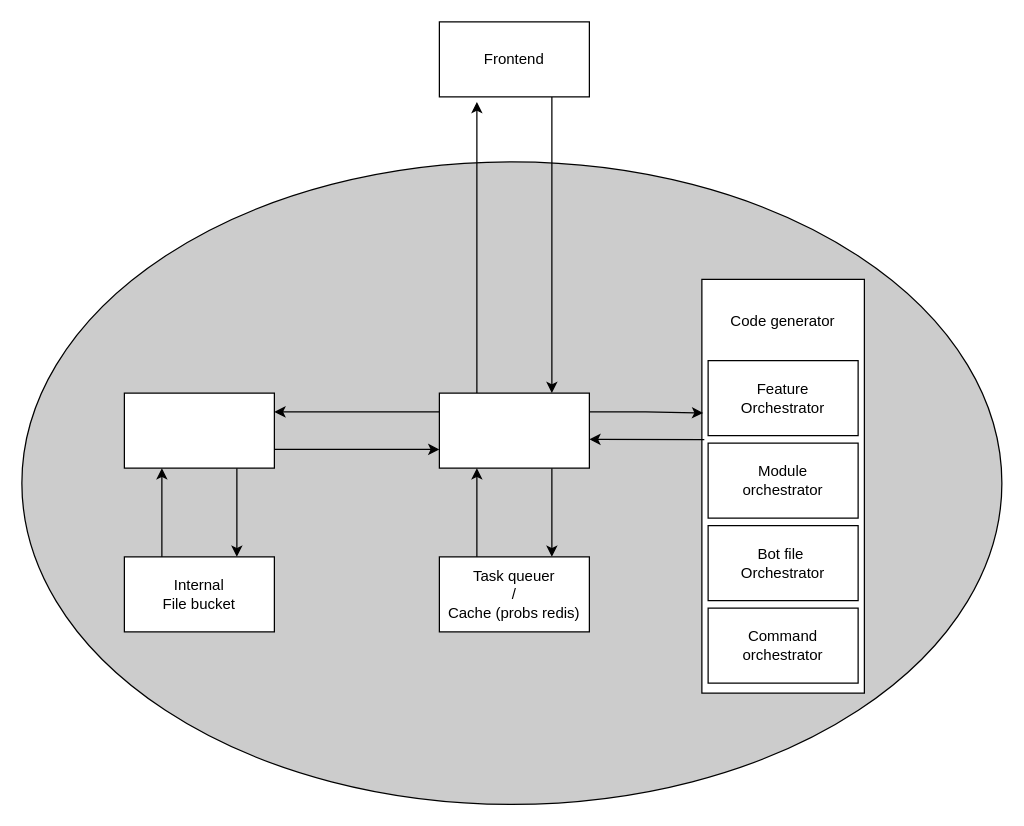
Image size: 1024x826. Some labels were removed from this diagram. Each missing label, with the centre of its shape:
API: the point at 513,430
File i/o manager: the point at 198,430
